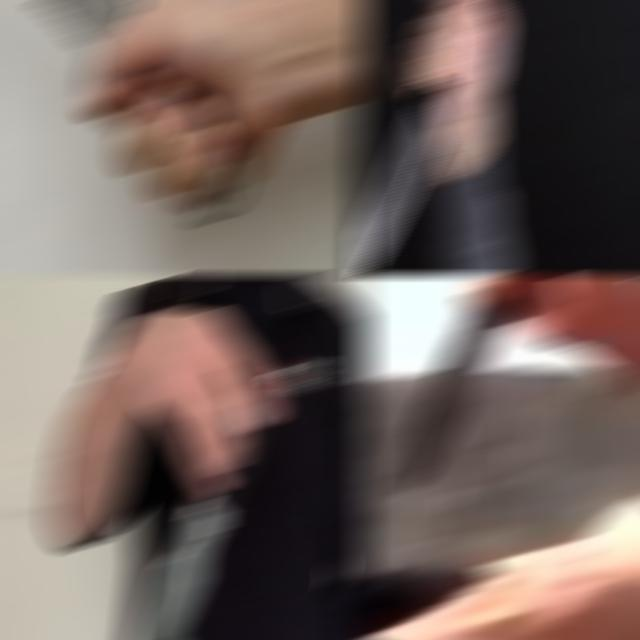Knife: (394, 290, 529, 492), (358, 82, 450, 274), (32, 2, 146, 86)
Knife_Handle: (0, 2, 302, 240), (114, 309, 282, 638), (388, 276, 618, 494), (358, 2, 530, 274)
